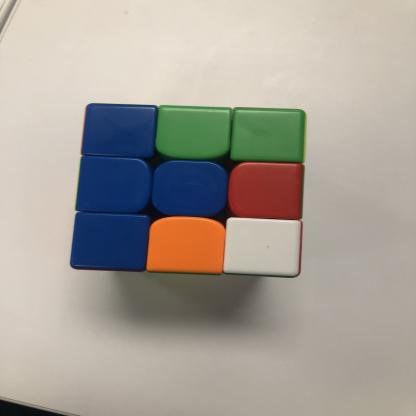UnsolvedCube: (58, 85, 316, 287)
